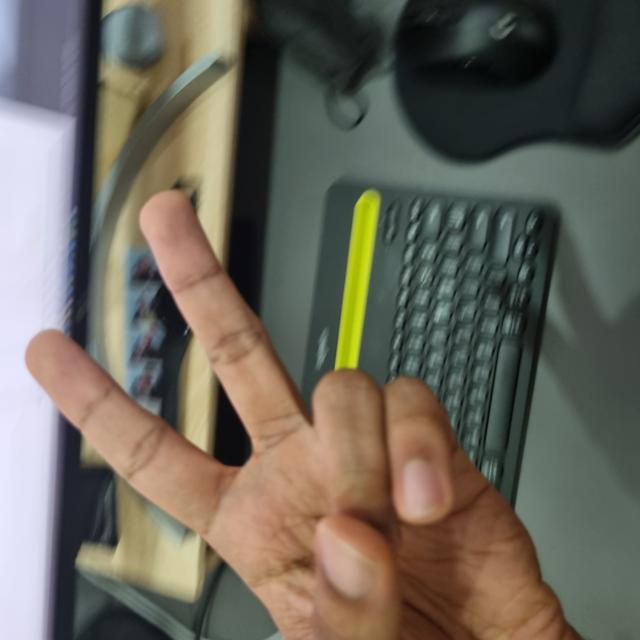Scissors: (0, 22, 441, 595)
